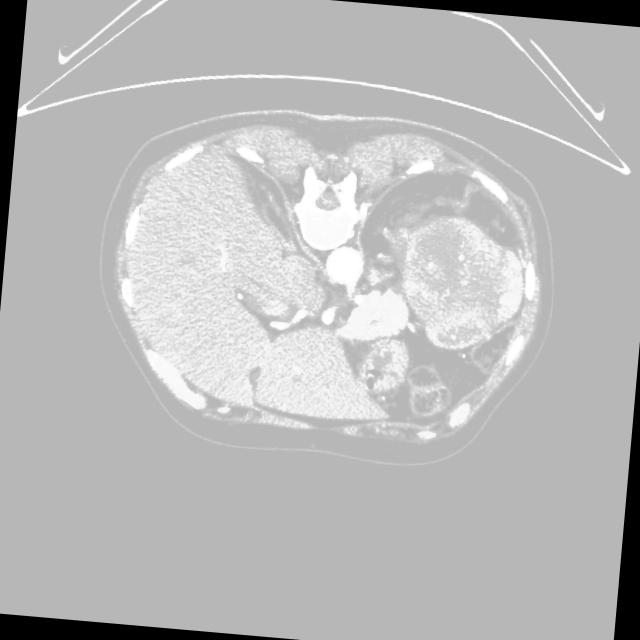TUMOR: (334, 190, 589, 345)
